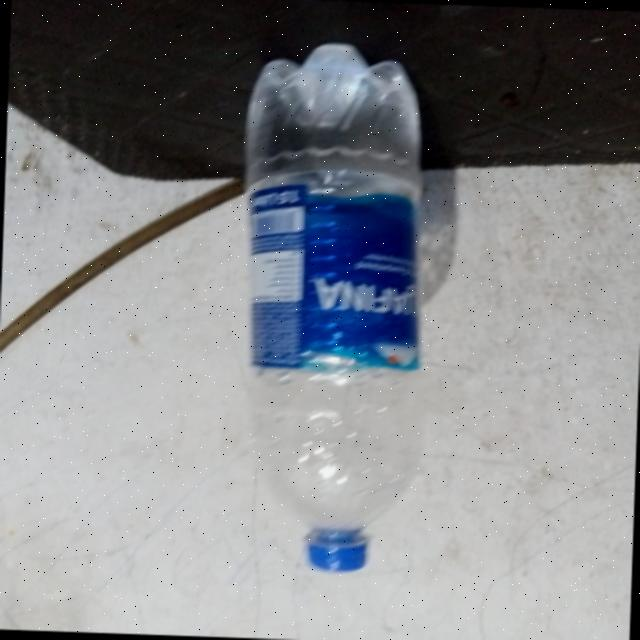bottle: (208, 31, 445, 591)
cap: (290, 523, 380, 577)
label: (232, 174, 438, 382)
